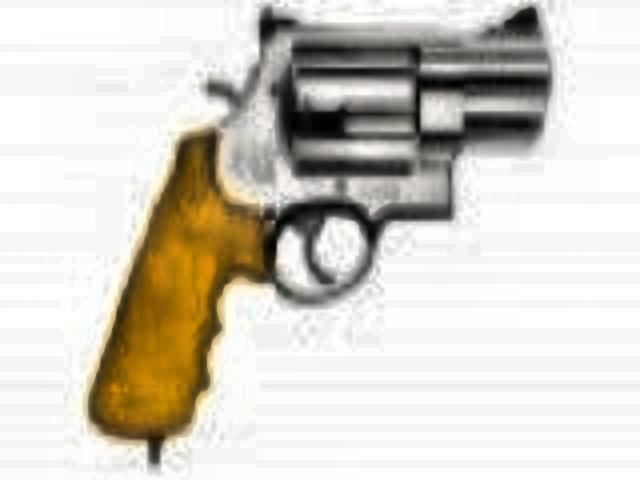pistol: (80, 8, 552, 428)
